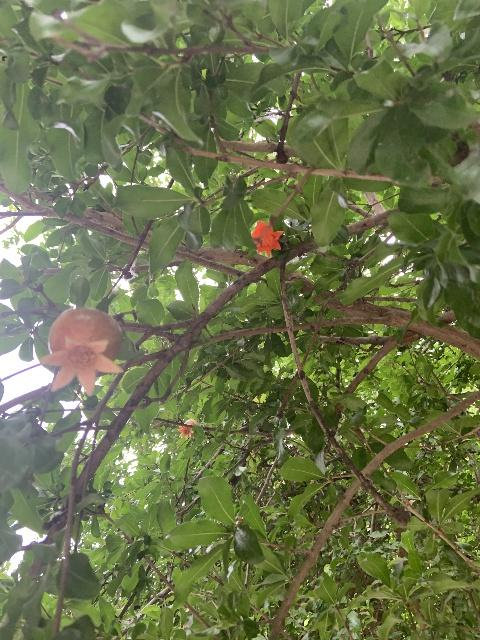early-fruit: (39, 306, 123, 396), (176, 419, 197, 440)
flower: (250, 220, 283, 257)
